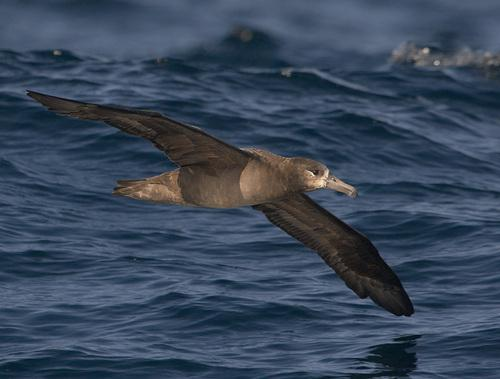001.Black_footed_Albatross: (26, 89, 414, 319)
